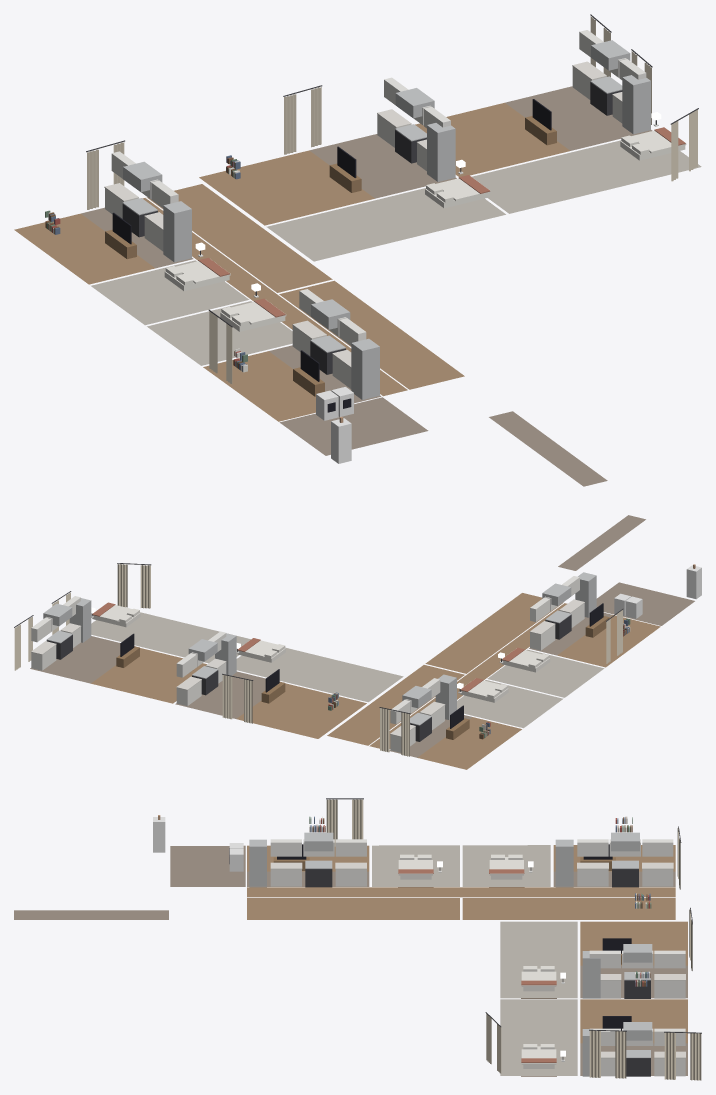
The model's file is fine-s0.glb.
3 views of the same model, one above another, from view 1: azimuth 30°, elevation 25°; view 2: azimuth 150°, elevation 25°; view 3: azimuth 270°, elevation 25° (orthographic). The views are drawn at different scales.
Parts seen in each view (by area): view 1: soft-s0, range.003, range.002, fridge.001, fridge.000, range.001, range.000, fridge.003, fridge.002, tv-console.002, tv-console.001, tv-console.003 (+5 smaller); view 2: soft-s0, range.002, range.003, range.000, range.001, fridge.000, fridge.001, fridge.003, counter-run.006, fridge.002, counter-run.000, counter-run.004 (+6 smaller); view 3: soft-s0, range.000, range.001, range.002, range.003, fridge.001, fridge.000, fridge.002, counter-run.001, counter-run.000, counter-run.002, counter-run.003 (+10 smaller).
Part boxes in pixels (x1=…): soft-s0: x1=14, y1=14, x2=701, y2=486; range.003: x1=590, y1=40, x2=630, y2=115; range.002: x1=395, y1=88, x2=434, y2=163; fridge.001: x1=163, y1=201, x2=191, y2=262; fridge.000: x1=351, y1=338, x2=379, y2=399; range.001: x1=122, y1=161, x2=162, y2=237; range.000: x1=310, y1=299, x2=350, y2=374; fridge.003: x1=622, y1=75, x2=650, y2=134; fridge.002: x1=427, y1=123, x2=455, y2=181; tv-console.002: x1=329, y1=146, x2=361, y2=192; tv-console.001: x1=105, y1=212, x2=136, y2=259; tv-console.003: x1=525, y1=99, x2=556, y2=145; soft-s0: x1=14, y1=515, x2=694, y2=769; range.002: x1=188, y1=639, x2=218, y2=695; range.003: x1=43, y1=603, x2=72, y2=659; range.000: x1=542, y1=583, x2=571, y2=639; range.001: x1=402, y1=686, x2=431, y2=741; fridge.000: x1=575, y1=572, x2=596, y2=617; fridge.001: x1=435, y1=674, x2=456, y2=719; fridge.003: x1=69, y1=598, x2=91, y2=642; counter-run.006: x1=31, y1=641, x2=56, y2=670; fridge.002: x1=215, y1=633, x2=236, y2=675; counter-run.000: x1=530, y1=621, x2=555, y2=650; counter-run.004: x1=176, y1=676, x2=201, y2=706; soft-s0: x1=14, y1=798, x2=701, y2=1080; range.000: x1=304, y1=832, x2=333, y2=887; range.001: x1=611, y1=832, x2=639, y2=887; range.002: x1=623, y1=944, x2=652, y2=998; range.003: x1=623, y1=1022, x2=652, y2=1076; fridge.001: x1=555, y1=839, x2=573, y2=887; fridge.000: x1=249, y1=839, x2=266, y2=887; fridge.002: x1=582, y1=951, x2=600, y2=998; counter-run.001: x1=270, y1=862, x2=302, y2=886; counter-run.000: x1=335, y1=862, x2=366, y2=886; counter-run.002: x1=642, y1=862, x2=673, y2=886; counter-run.003: x1=577, y1=862, x2=608, y2=886.
Size of the model in its own units: 24.98 by 2.4 by 30.78.
